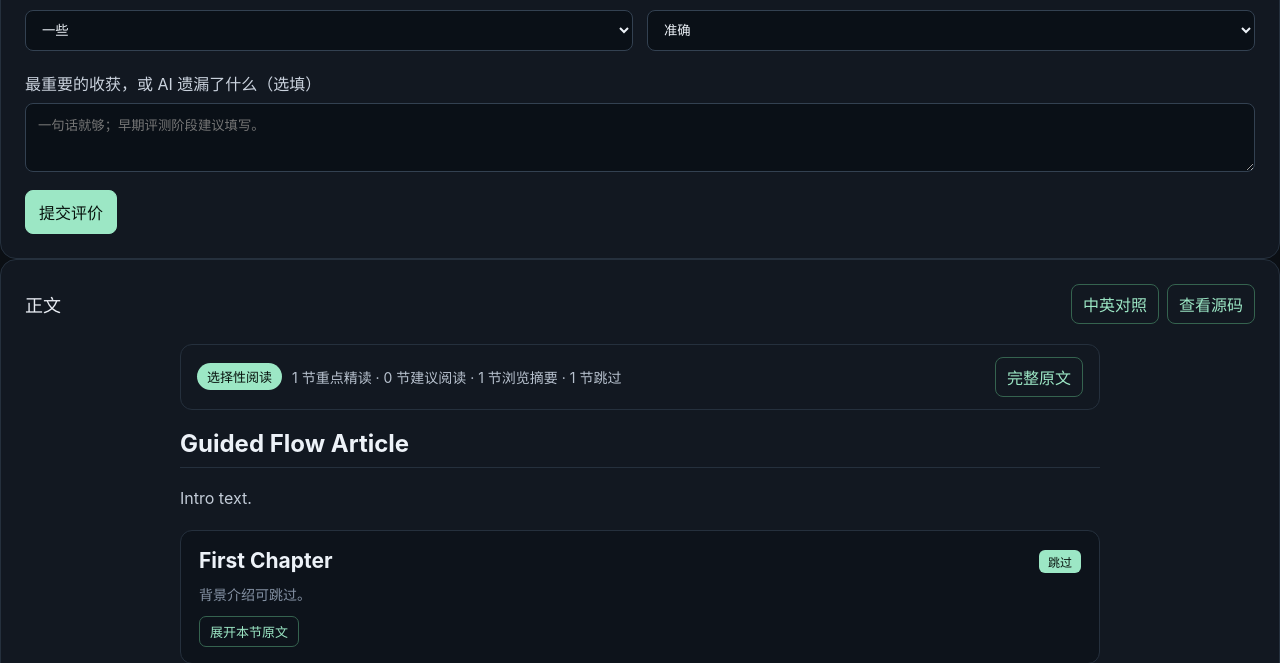
Test: 内容详情引导流与译文共存 › 译文块缺少行号时对照视图退回普通双文档，不做章节标注
The width and height of the screenshot is (1280, 663).
(page scrolled)
Expected: the element with class "guided-section" does not show "第三章正文译文。"
# 对照视图仍可用，但退化为左右两个连续文档，无章节徽章。
What coordinates should you click on to do the following:
click the button "中英对照"
I would click on:
 (1115, 304)
Its box is [1071,284,1159,324].
(page scrolled)
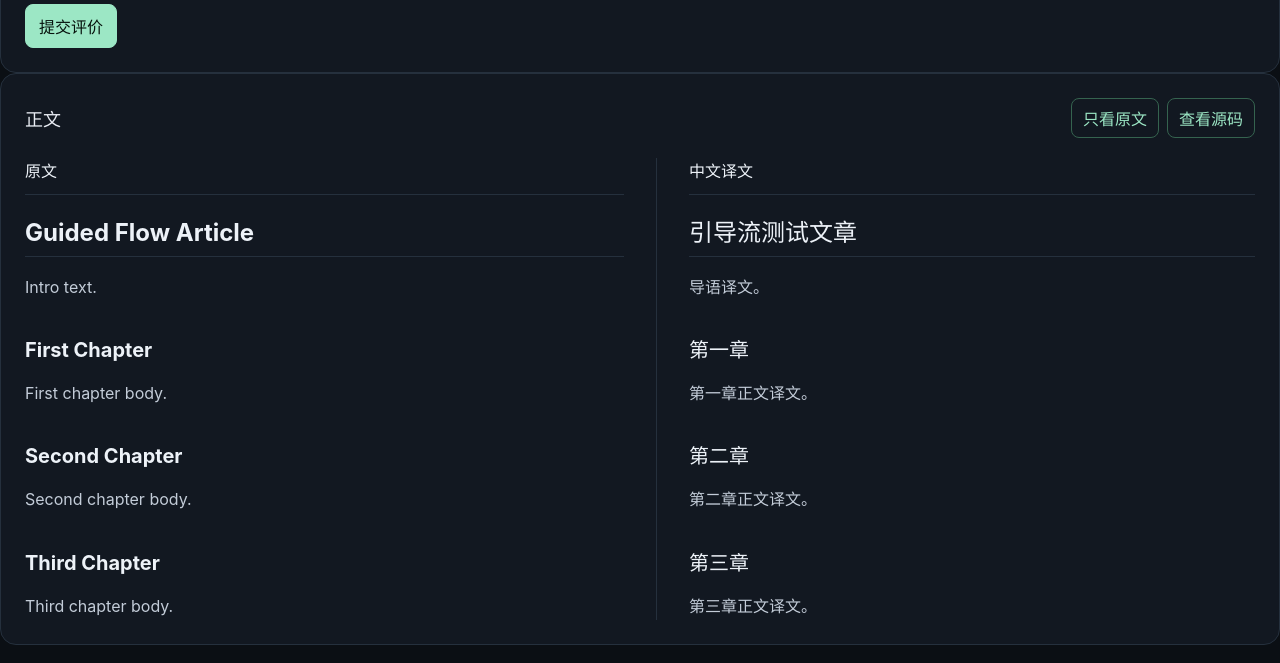
Result: the number of elements with class "translation-document" is 2 at [25,158,624,620]; [656,158,1255,620]
Result: no elements with class "guided-section" are shown
Result: the element with class "translation-document" shows "Third chapter body." at [25,596,173,616]
